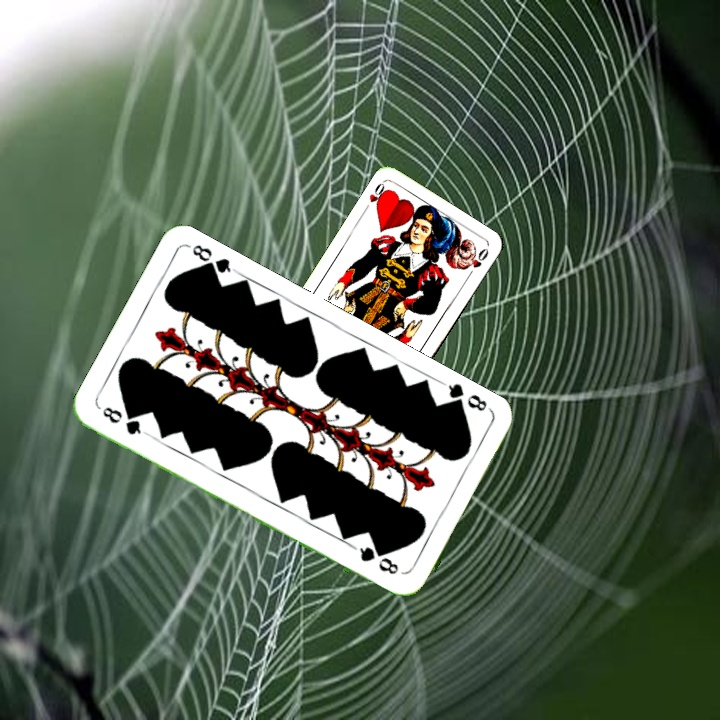G8: (440, 379, 494, 415), (98, 402, 150, 438)
HO: (360, 178, 391, 214)
